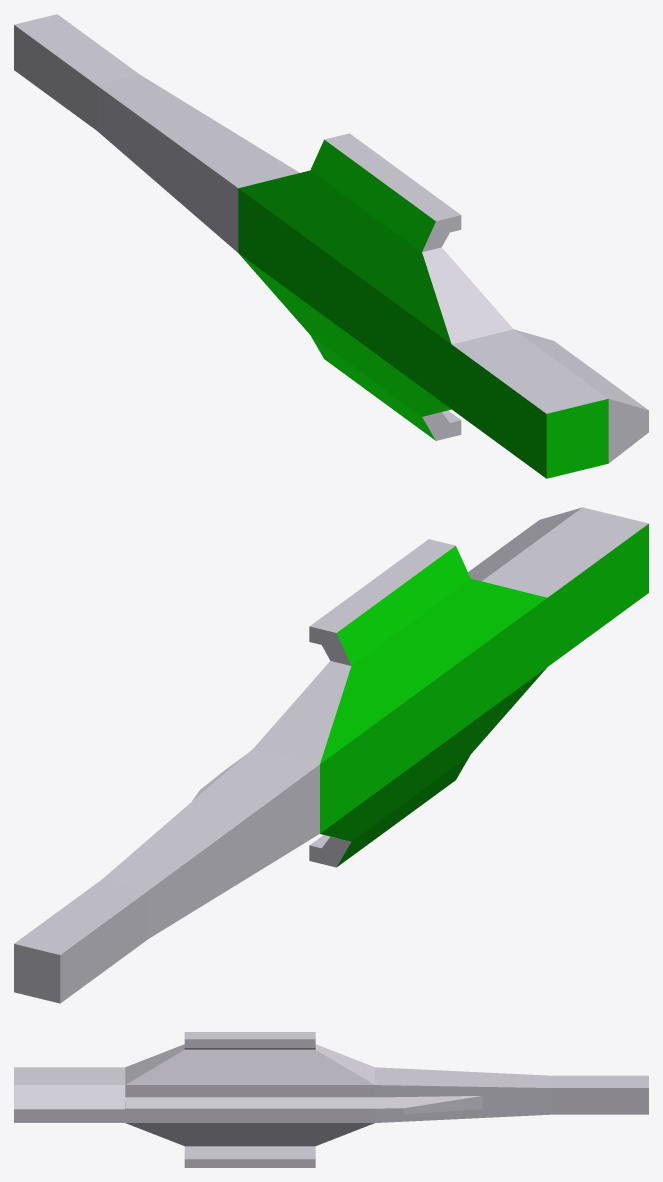
File: Fin Runner.fbx
The picture shows the model from 3 angles, top to bottom: view 1: azimuth 30°, elevation 25°; view 2: azimuth 150°, elevation 25°; view 3: azimuth 270°, elevation 25°; orthographic projection. The views are drawn at different scales.
Visible parts, largest first — view 1: Fin Runner; view 2: Fin Runner; view 3: Fin Runner.
Part boxes in pixels (bbox=[...]): Fin Runner: bbox=[14, 14, 648, 478]; Fin Runner: bbox=[14, 507, 648, 1003]; Fin Runner: bbox=[14, 1032, 648, 1167].
Size of the model in its own units: 0.7862 by 1.61 by 7.21.
